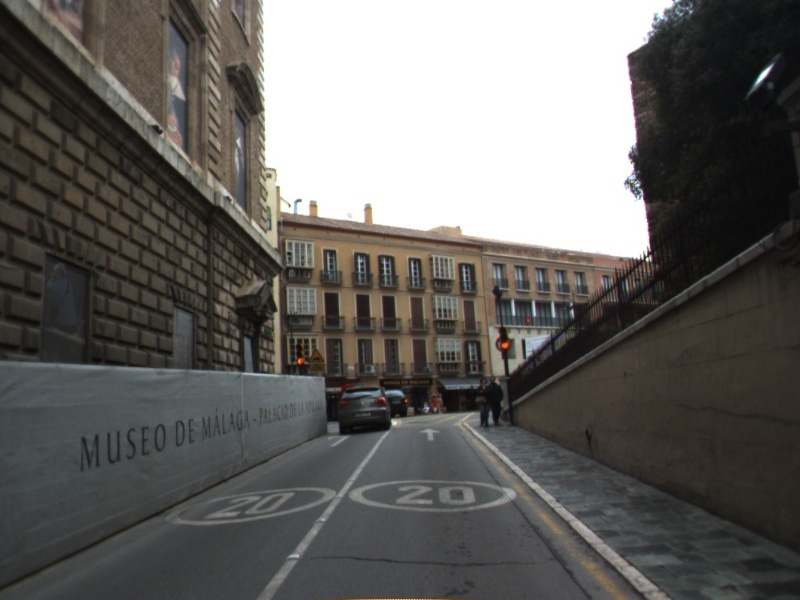LEFT: (326, 432, 353, 449)
STRAIGHT: (418, 426, 443, 442)
